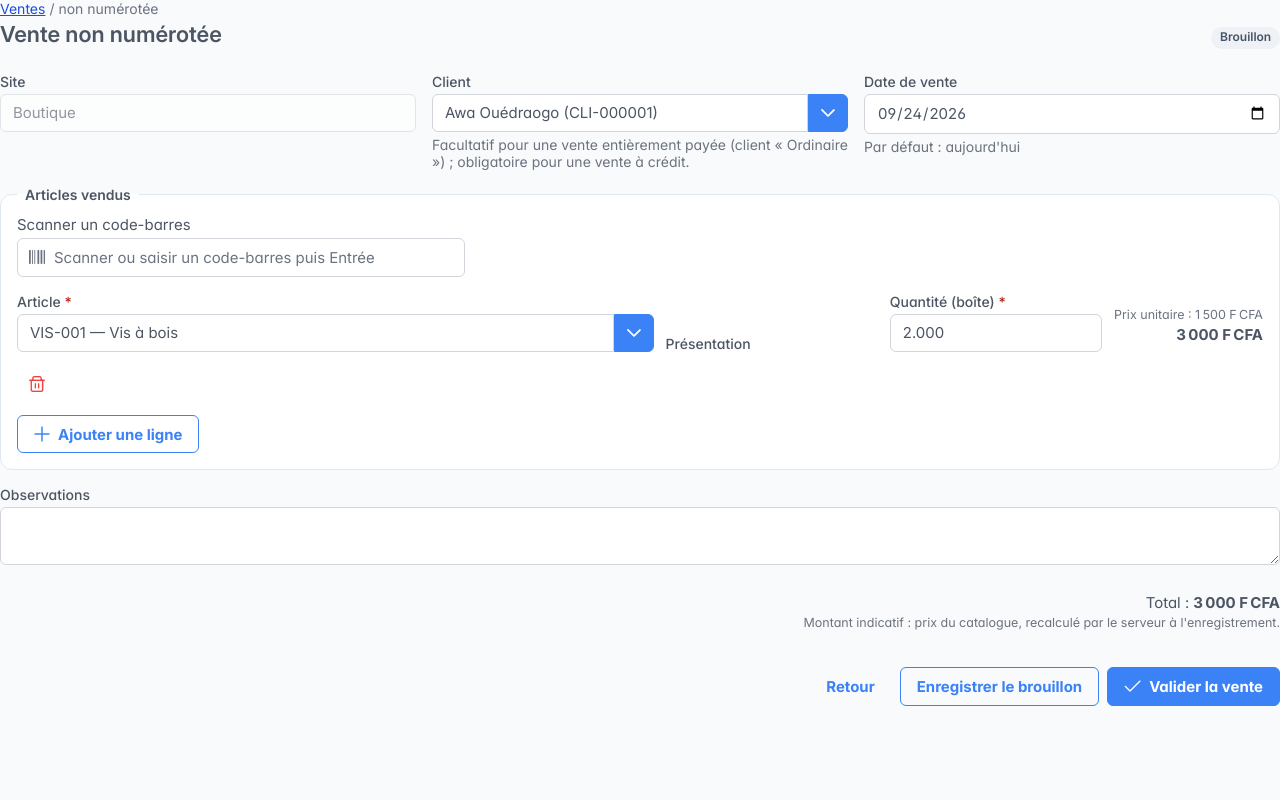
Test: saisie et consultation d’une vente › limite de crédit dépassée : message détaillé, dialogue conservé
The width and height of the screenshot is (1280, 800).
Click the button "Valider la vente" at point(1194, 686), box [1107,667,1279,706]
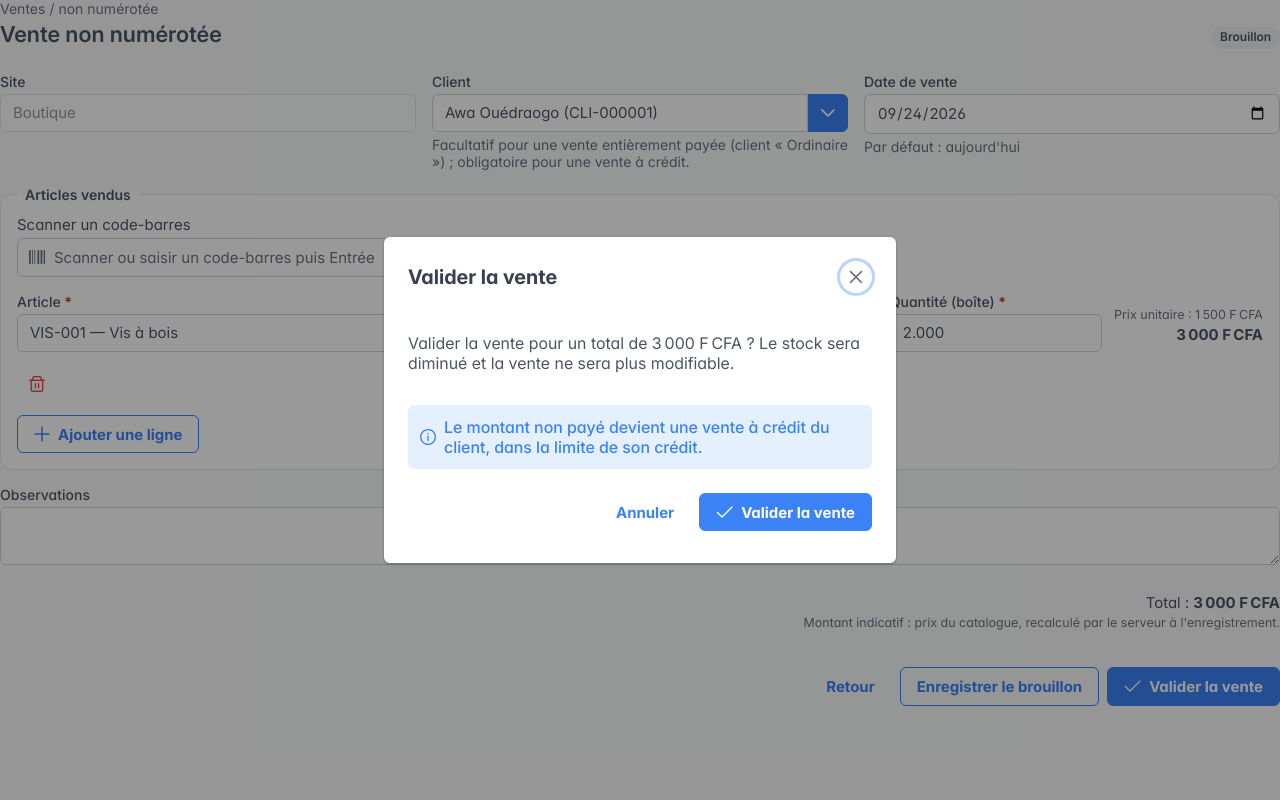
Result: the dialog shows "dans la limite de son crédit" at [444,417,830,457]
Click the button "Valider la vente" at point(786, 512), box [699,493,872,531]
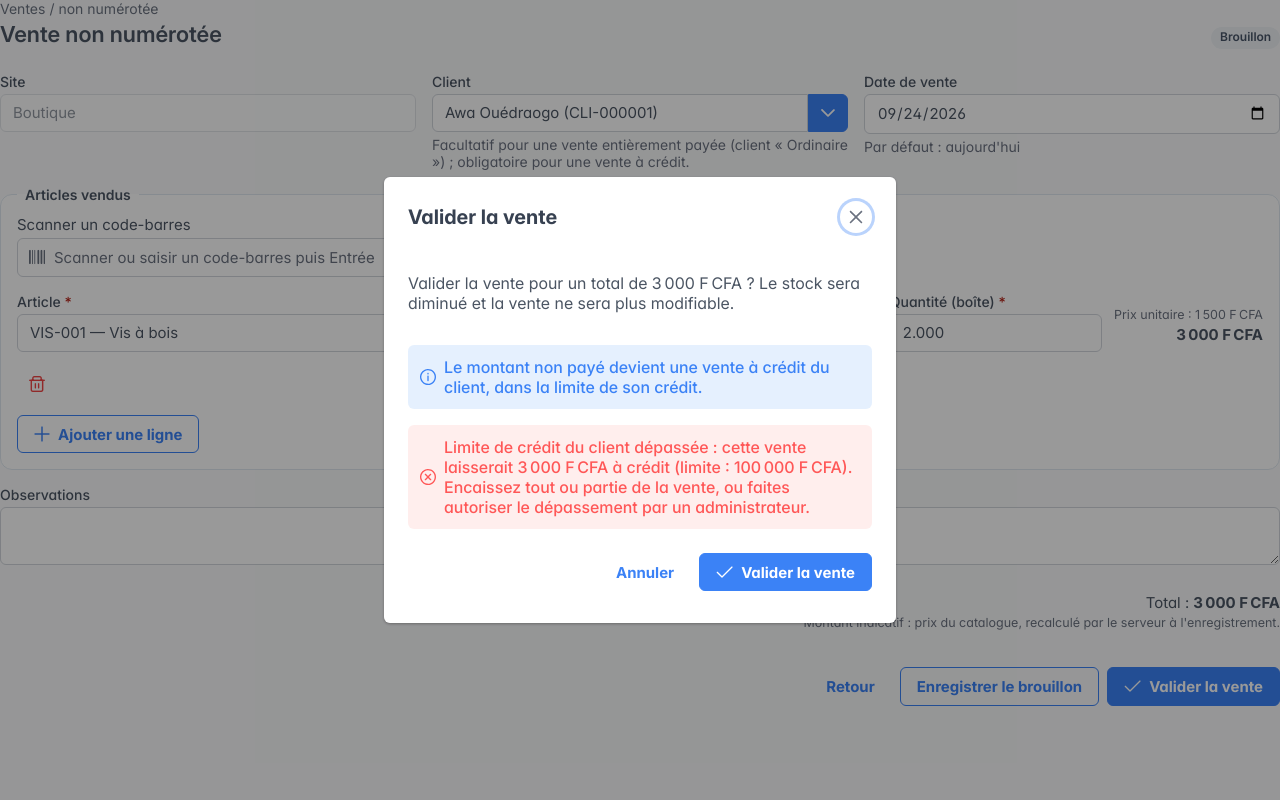
Result: the text "Limite de crédit du client dépassée" is shown at [444,437,852,517]
